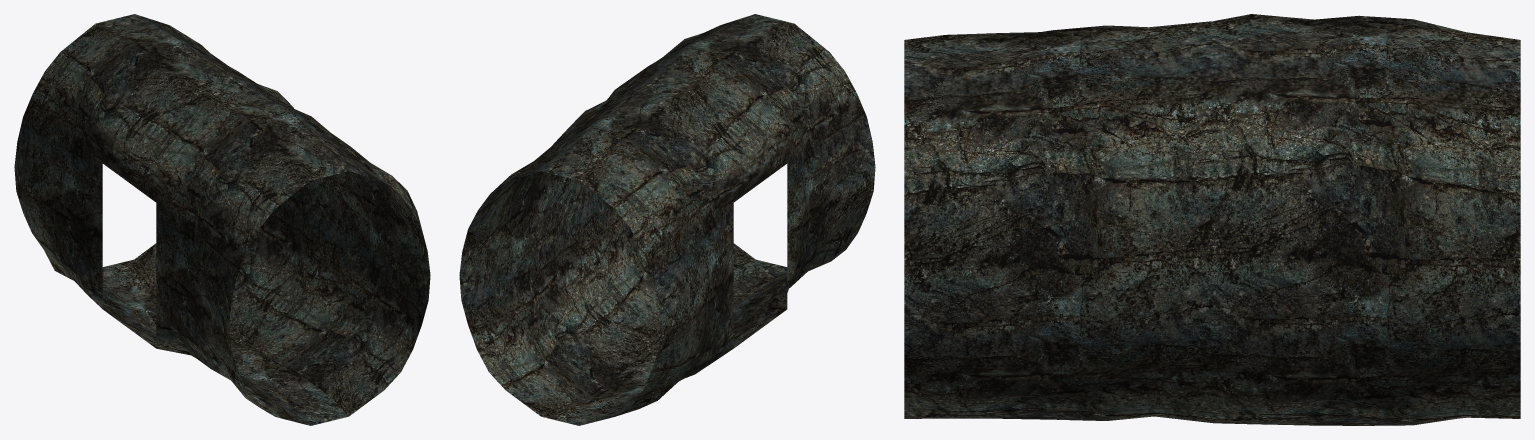
Rendered from tunnel_theta_straight_doorway_side.dae.
3 renders of one model, left to right at view 1: azimuth 30°, elevation 25°; view 2: azimuth 150°, elevation 25°; view 3: azimuth 270°, elevation 25°, orthographic. The views are drawn at different scales.
Visible parts, largest first — view 1: straight_doorway_side; view 2: straight_doorway_side; view 3: straight_doorway_side.
Part boxes in pixels (left/top/right/bottom): straight_doorway_side: left=14, top=14, right=430, bottom=425; straight_doorway_side: left=459, top=14, right=875, bottom=425; straight_doorway_side: left=904, top=14, right=1520, bottom=425.
Size of the model in its own units: 4.61 by 5.53 by 8.
